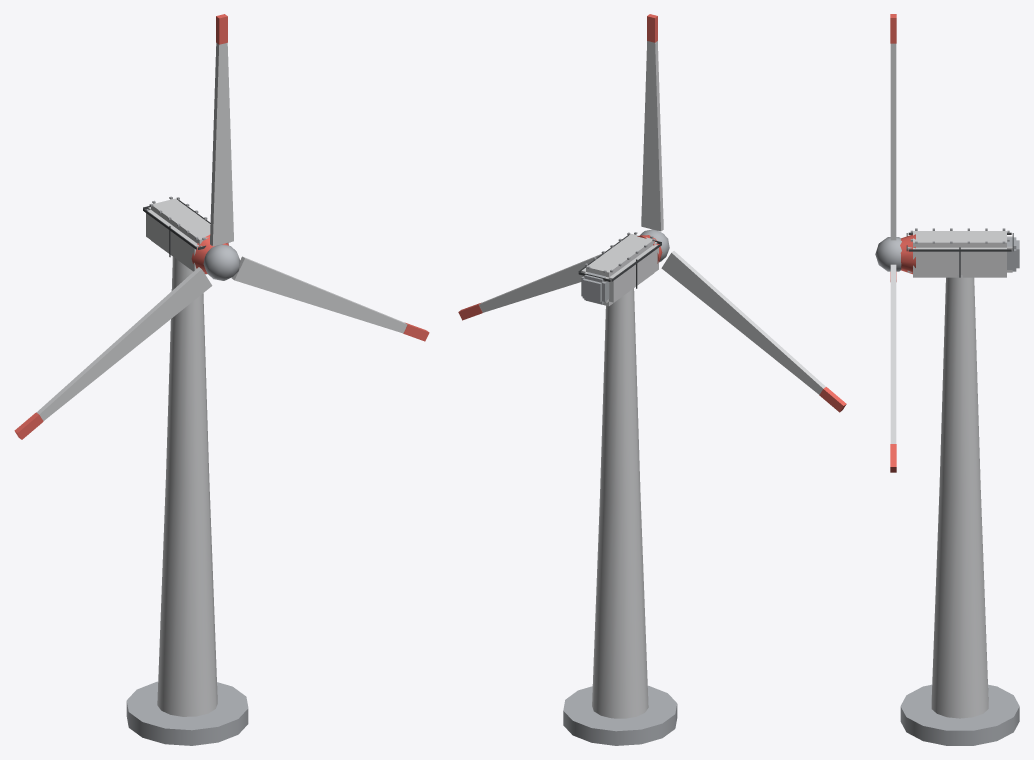
Rendered from wind_turbine.fbx.
3 views of the same model, side by side, from view 1: azimuth 30°, elevation 25°; view 2: azimuth 150°, elevation 25°; view 3: azimuth 270°, elevation 25° (orthographic). The views are drawn at different scales.
Visible parts, largest first — view 1: wind_turbine, Rotor; view 2: wind_turbine, Rotor; view 3: wind_turbine, Rotor.
Part boxes in pixels (x1=…): wind_turbine: x1=126, y1=196, x2=248, y2=745; Rotor: x1=14, y1=14, x2=429, y2=439; wind_turbine: x1=563, y1=232, x2=677, y2=745; Rotor: x1=458, y1=14, x2=846, y2=412; wind_turbine: x1=900, y1=228, x2=1019, y2=745; Rotor: x1=875, y1=14, x2=901, y2=472.
Bounding box in the file's own units: 6.57 × 11.1 × 2.06.
